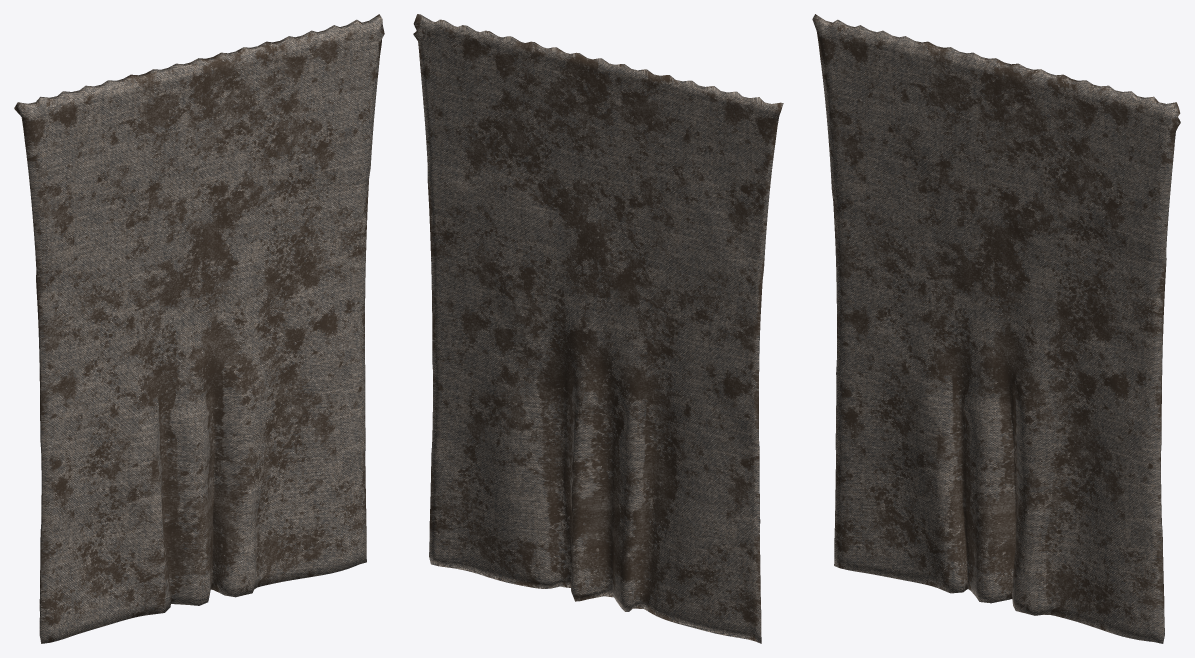
The model's file is Curtain.fbx.
The picture shows the model from 3 angles, left to right: view 1: azimuth 30°, elevation 25°; view 2: azimuth 150°, elevation 25°; view 3: azimuth 330°, elevation 25°; orthographic projection.
Visible parts, largest first — view 1: Curtain; view 2: Curtain; view 3: Curtain.
Part boxes in pixels (bbox=[...]): Curtain: bbox=[14, 14, 384, 643]; Curtain: bbox=[413, 14, 783, 643]; Curtain: bbox=[812, 14, 1180, 643].
Size of the model in its own units: 153 by 217 by 13.41.
Materials: 1 (1 with a texture image).
